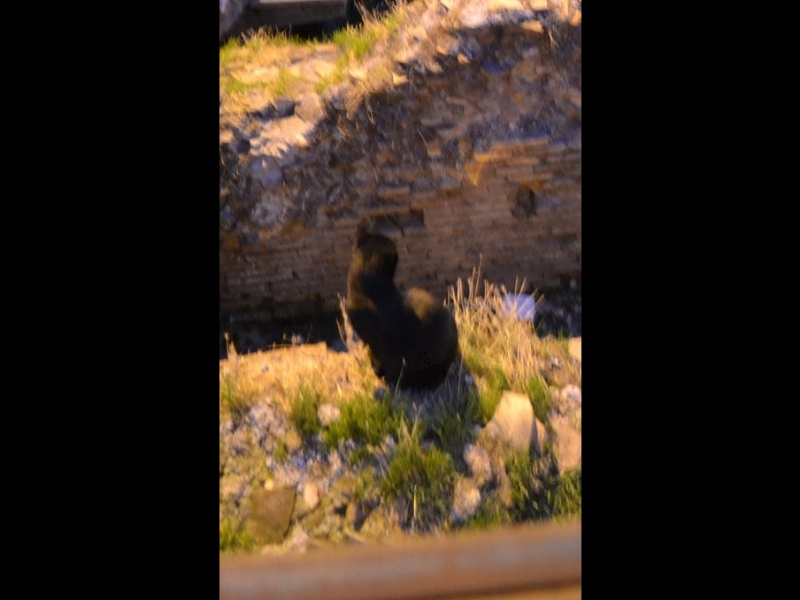cat: (343, 225, 462, 393)
